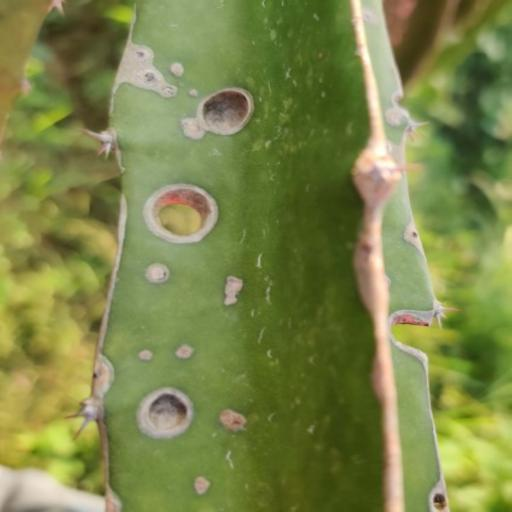stemcanker: (256, 25, 370, 320), (247, 325, 397, 512), (140, 250, 175, 302), (216, 393, 252, 441), (221, 272, 257, 316), (164, 52, 200, 88), (168, 107, 204, 143), (138, 44, 162, 98), (173, 338, 205, 371), (182, 75, 216, 102), (185, 472, 218, 499), (133, 346, 168, 371)
